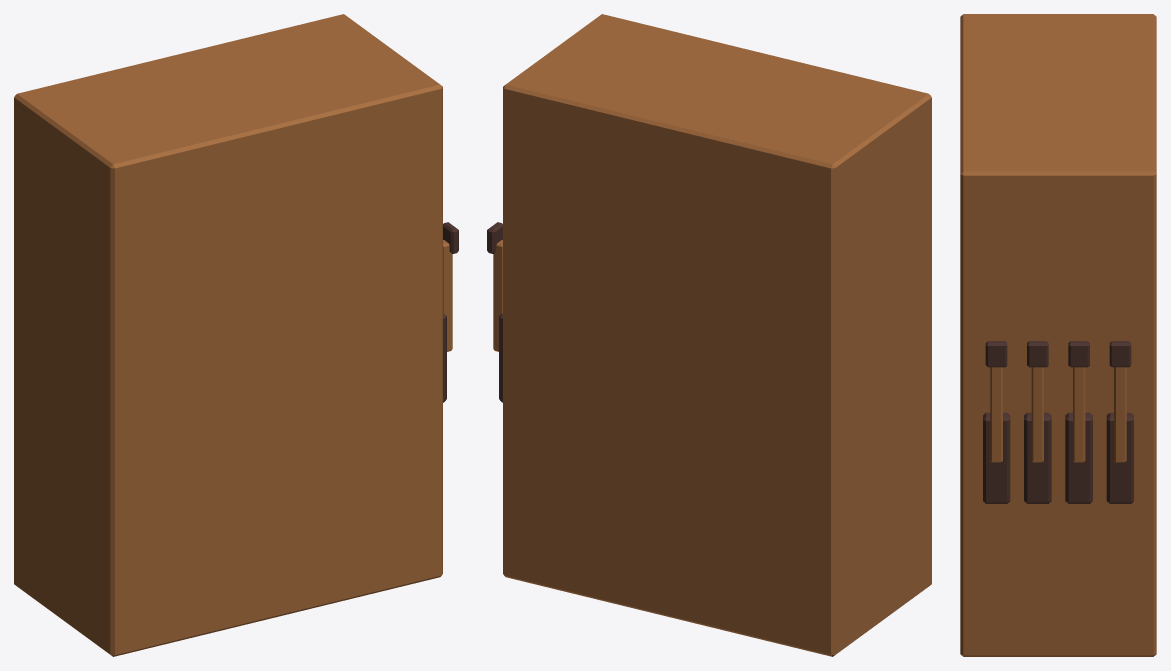
File: leviers_couloir.glb
3 renders of one model, left to right at view 1: azimuth 30°, elevation 25°; view 2: azimuth 150°, elevation 25°; view 3: azimuth 270°, elevation 25°, orthographic.
Parts seen in each view (by area): view 1: leviers_couloir; view 2: leviers_couloir; view 3: leviers_couloir.
Part boxes in pixels (<box>): leviers_couloir: <box>14,14,458,656</box>; leviers_couloir: <box>487,14,931,656</box>; leviers_couloir: <box>960,14,1156,656</box>.
Bounding box in the file's own units: 1.15 × 1.5 × 0.55.
Materials: 1 (1 with a texture image).
